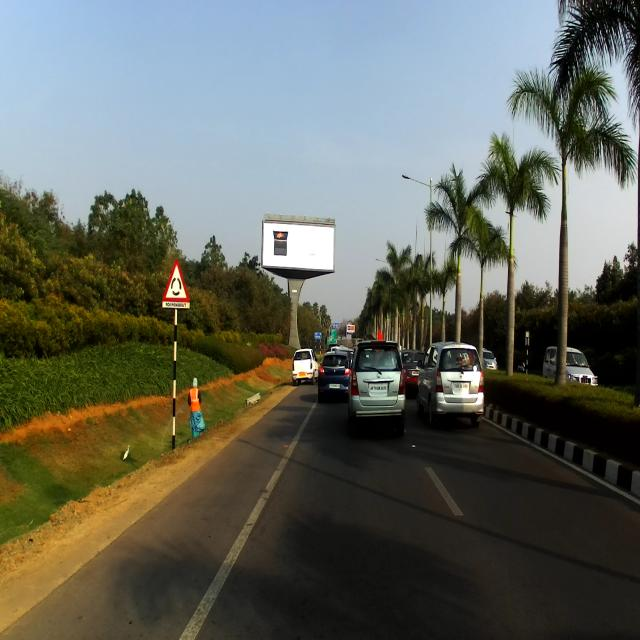barrier ahead at: (155, 262, 196, 458), (184, 370, 206, 443)
car ahead at: (348, 336, 411, 431), (421, 340, 488, 426)
